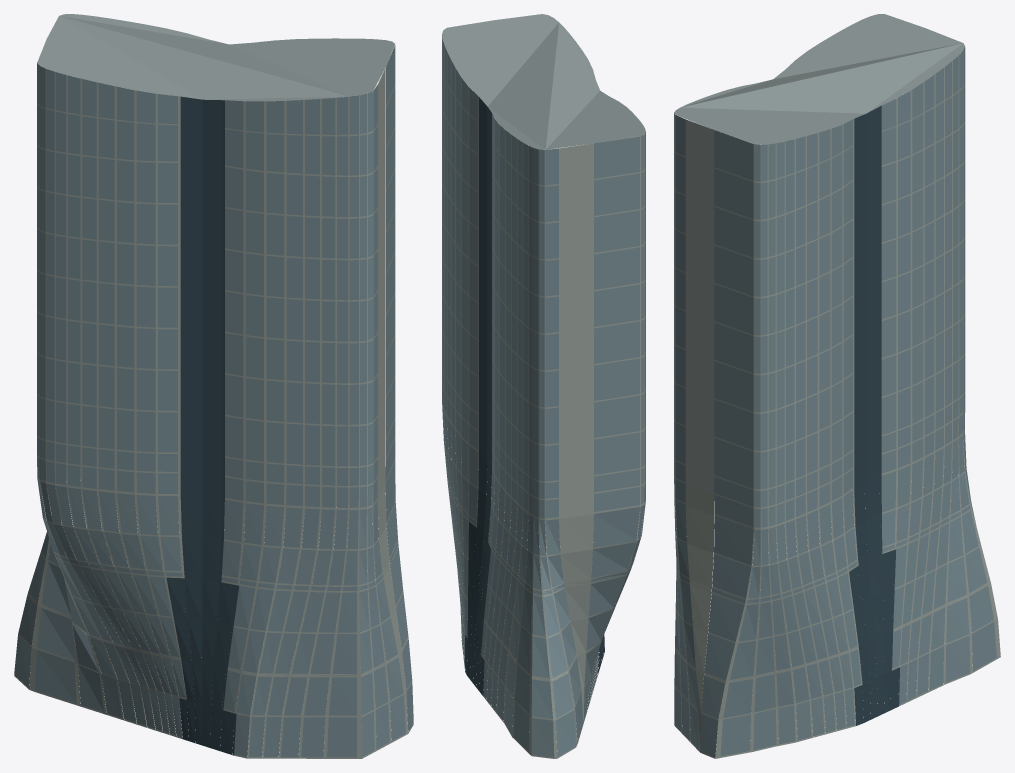
Rendered from tour-cma-cgm-far.glb.
3 renders of one model, left to right at view 1: azimuth 30°, elevation 25°; view 2: azimuth 150°, elevation 25°; view 3: azimuth 270°, elevation 25°, orthographic. The views are drawn at different scales.
Parts seen in each view (by area): view 1: tour-cma-cgm-0-glass, tour-cma-cgm-0-frame, tour-cma-cgm-0-dark, tour-cma-cgm-0-roof; view 2: tour-cma-cgm-0-glass, tour-cma-cgm-0-frame, tour-cma-cgm-0-roof, tour-cma-cgm-0-dark; view 3: tour-cma-cgm-0-glass, tour-cma-cgm-0-frame, tour-cma-cgm-0-dark, tour-cma-cgm-0-roof.
Part boxes in pixels (bbox=[...]): tour-cma-cgm-0-glass: bbox=[14, 45, 413, 757]; tour-cma-cgm-0-frame: bbox=[14, 66, 413, 758]; tour-cma-cgm-0-dark: bbox=[166, 96, 239, 755]; tour-cma-cgm-0-roof: bbox=[37, 14, 394, 101]; tour-cma-cgm-0-glass: bbox=[442, 35, 645, 757]; tour-cma-cgm-0-frame: bbox=[442, 39, 645, 758]; tour-cma-cgm-0-roof: bbox=[442, 14, 645, 149]; tour-cma-cgm-0-dark: bbox=[465, 97, 604, 695]; tour-cma-cgm-0-glass: bbox=[674, 47, 996, 756]; tour-cma-cgm-0-frame: bbox=[674, 47, 1000, 758]; tour-cma-cgm-0-dark: bbox=[849, 105, 899, 725]; tour-cma-cgm-0-roof: bbox=[674, 14, 964, 144].
Bounding box in the file's own units: 66.96 × 147 × 70.66.
